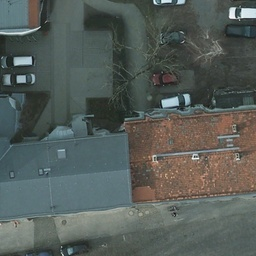car: (158, 93, 194, 110), (219, 23, 255, 40), (1, 53, 34, 69), (150, 70, 183, 86), (156, 30, 184, 46), (228, 2, 256, 18), (3, 72, 36, 85)
